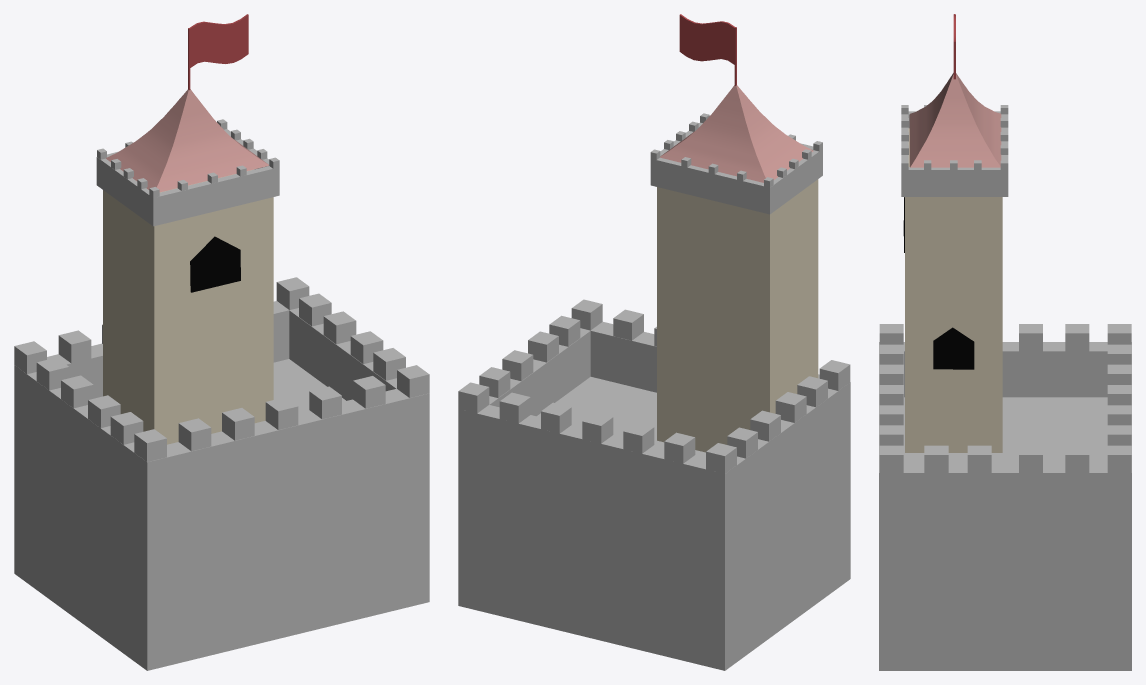
Rendered from vision tower 1.fbx.
3 views of the same model, side by side, from view 1: azimuth 30°, elevation 25°; view 2: azimuth 150°, elevation 25°; view 3: azimuth 270°, elevation 25° (orthographic). The views are drawn at different scales.
Parts seen in each view (by area): view 1: polySurface55; view 2: polySurface55; view 3: polySurface55.
Boxes of the visible parts, box(x1,y1,x2,y2) form: polySurface55: box(14, 14, 429, 670); polySurface55: box(458, 14, 850, 670); polySurface55: box(879, 14, 1131, 670).
Size of the model in its own units: 0.5997 by 1.21 by 0.4891.
